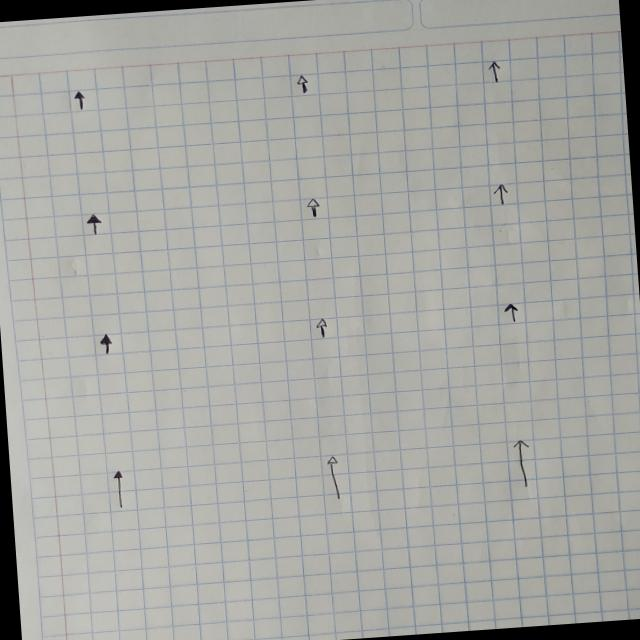arrow_line_up: (324, 454, 346, 502), (511, 438, 532, 488), (110, 469, 126, 509), (489, 181, 512, 207), (84, 212, 105, 238), (292, 72, 312, 96), (95, 332, 114, 356), (303, 195, 322, 218), (502, 301, 520, 325), (70, 89, 88, 112), (312, 316, 330, 339), (485, 60, 502, 84)
